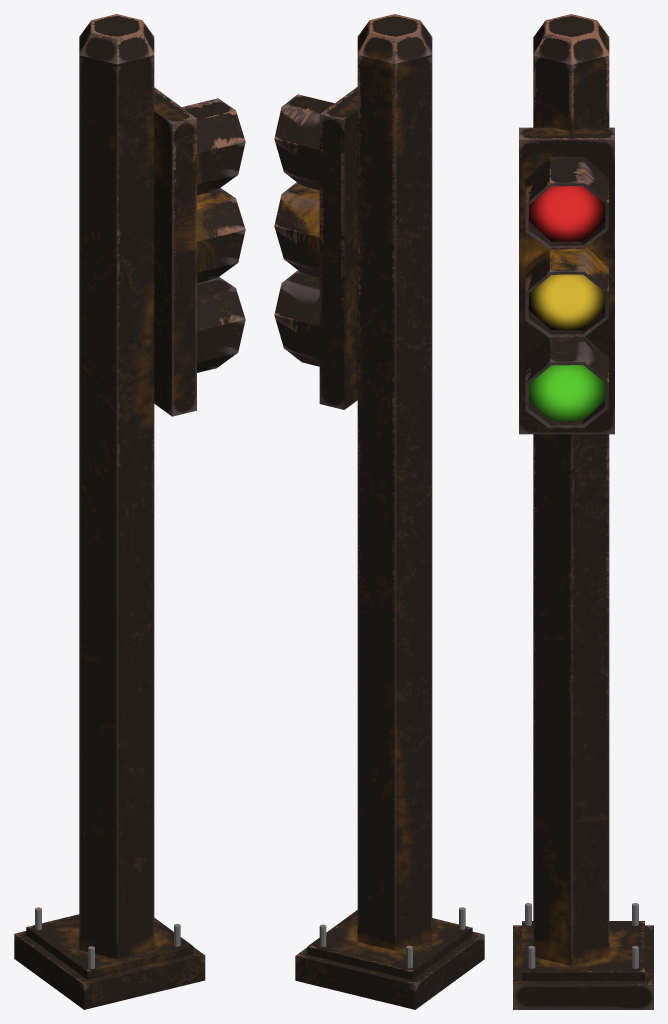
Rendered from TrafficLight_Default_01.fbx.
3 renders of one model, left to right at view 1: azimuth 30°, elevation 25°; view 2: azimuth 150°, elevation 25°; view 3: azimuth 270°, elevation 25°, orthographic.
Parts seen in each view (by area): view 1: Low.002; view 2: Low.002; view 3: Low.002.
Part boxes in pixels (x1=…): Low.002: x1=14, y1=14, x2=245, y2=1009; Low.002: x1=274, y1=14, x2=484, y2=1009; Low.002: x1=513, y1=14, x2=653, y2=1009.
Size of the model in its own units: 14.14 by 75.19 by 10.06.
